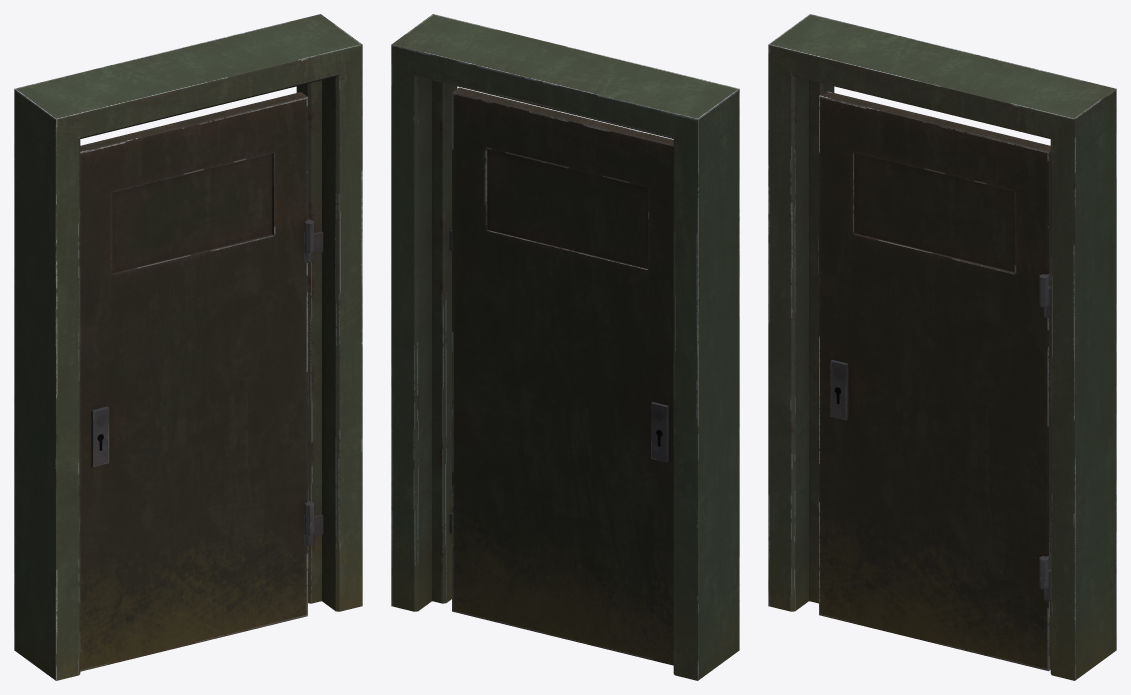
File: animated_door.glb
3 renders of one model, left to right at view 1: azimuth 30°, elevation 25°; view 2: azimuth 150°, elevation 25°; view 3: azimuth 330°, elevation 25°, orthographic.
Parts seen in each view (by area): view 1: door, frame; view 2: door, frame; view 3: door, frame.
Boxes of the visible parts, <box> form: door: <box>80,92,313,671</box>; frame: <box>14,14,362,680</box>; door: <box>452,87,673,665</box>; frame: <box>391,14,739,680</box>; door: <box>819,91,1050,671</box>; frame: <box>768,14,1116,680</box>.
Bounding box in the file's own units: 127 × 226 × 30.
1 material, 1 textured.
